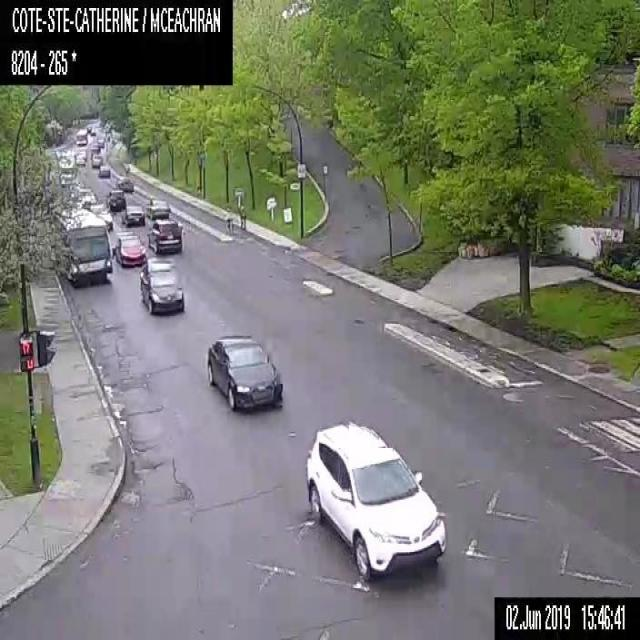bus: (60, 207, 116, 283), (76, 127, 87, 144)
cyclist: (225, 206, 232, 234), (240, 205, 246, 230)
vehicle: (305, 420, 446, 580), (207, 334, 282, 409), (140, 256, 182, 312), (148, 218, 182, 253), (114, 233, 146, 266), (89, 203, 112, 230), (145, 198, 171, 219), (121, 203, 144, 226), (106, 189, 125, 211), (76, 188, 96, 206), (115, 176, 133, 192), (59, 172, 74, 187), (98, 164, 110, 176), (91, 154, 102, 166), (76, 146, 86, 158), (90, 142, 100, 152), (76, 154, 84, 166), (90, 147, 98, 158), (96, 138, 104, 147), (86, 125, 91, 132), (90, 129, 95, 135)
